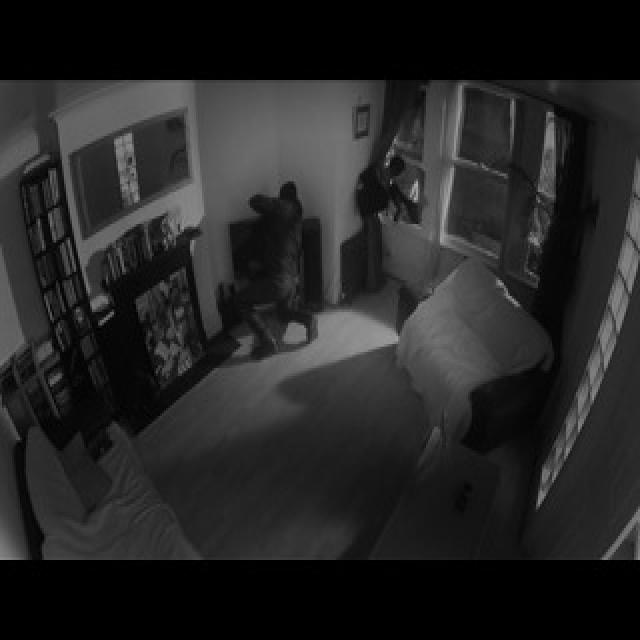thief: (234, 171, 318, 350)
